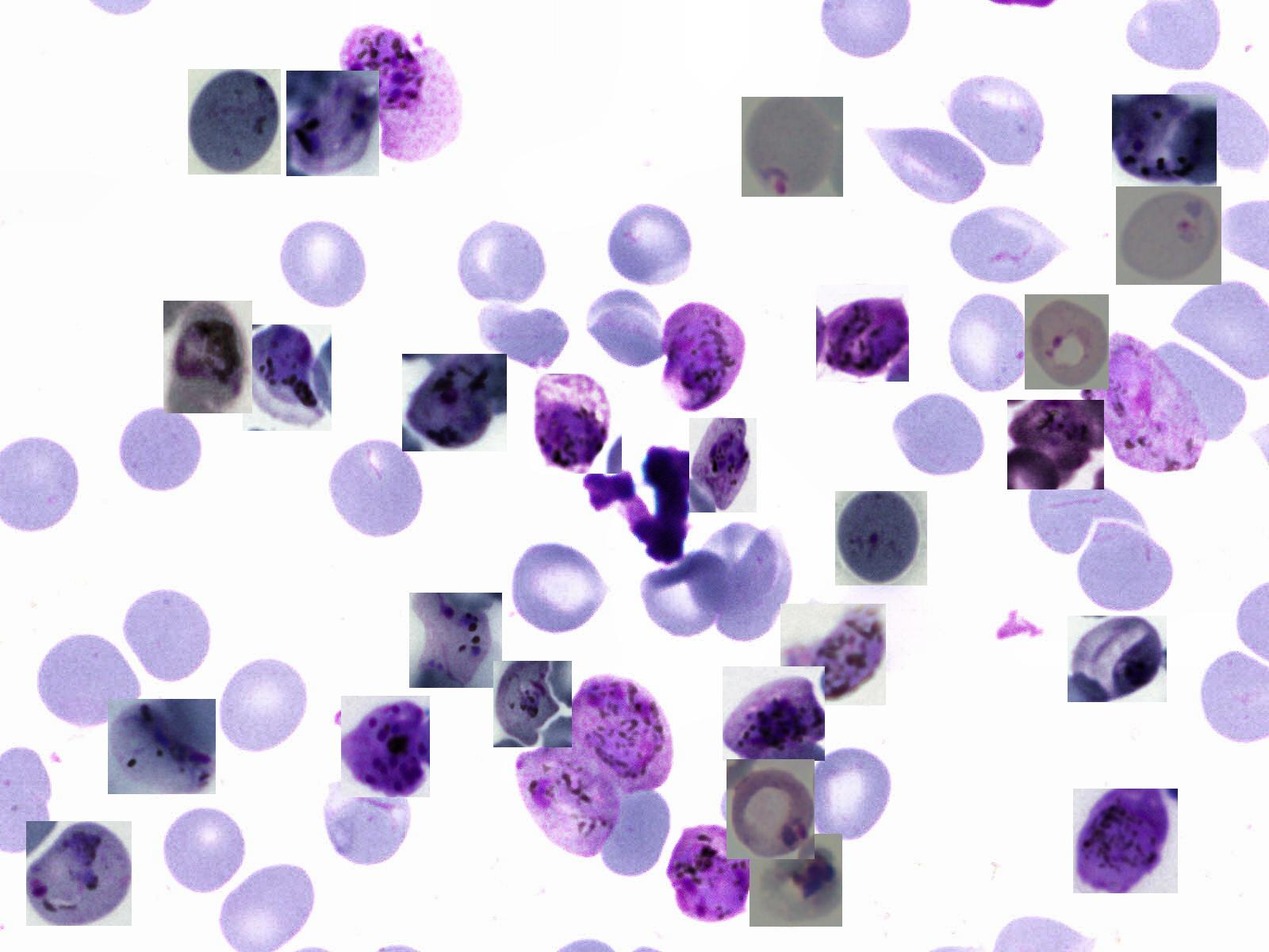Infected: (1083, 332, 1205, 475), (340, 21, 462, 162), (560, 672, 680, 788), (512, 743, 628, 861), (26, 821, 132, 926), (1073, 789, 1178, 893), (780, 604, 886, 705), (1116, 186, 1221, 285), (108, 699, 216, 794), (402, 354, 507, 451), (742, 97, 843, 197), (163, 301, 252, 413), (664, 823, 758, 928), (286, 71, 379, 177), (188, 69, 281, 175), (723, 666, 825, 761), (1112, 94, 1217, 186), (660, 302, 746, 413), (243, 324, 332, 431), (530, 374, 622, 474), (816, 285, 909, 382), (341, 696, 430, 797), (409, 593, 502, 688), (727, 759, 815, 859), (835, 491, 927, 585), (1007, 400, 1104, 489), (750, 834, 842, 927), (1068, 616, 1167, 702), (1025, 294, 1109, 390), (493, 661, 572, 747), (689, 418, 757, 512)
Uninfected: (324, 434, 429, 547), (1141, 339, 1250, 445), (34, 631, 142, 736), (1024, 470, 1150, 559), (945, 70, 1049, 173), (504, 538, 613, 635), (1072, 514, 1175, 614), (217, 653, 312, 757), (715, 528, 796, 643), (945, 205, 1065, 281), (873, 125, 994, 200), (275, 218, 370, 313), (453, 214, 548, 308), (948, 293, 1033, 397), (320, 771, 409, 870), (888, 390, 988, 478), (692, 518, 778, 619), (121, 589, 212, 684), (806, 746, 895, 843), (639, 553, 733, 641), (159, 805, 248, 895), (117, 401, 204, 493), (607, 199, 695, 288), (597, 786, 677, 880), (474, 301, 576, 374), (582, 285, 665, 367)
